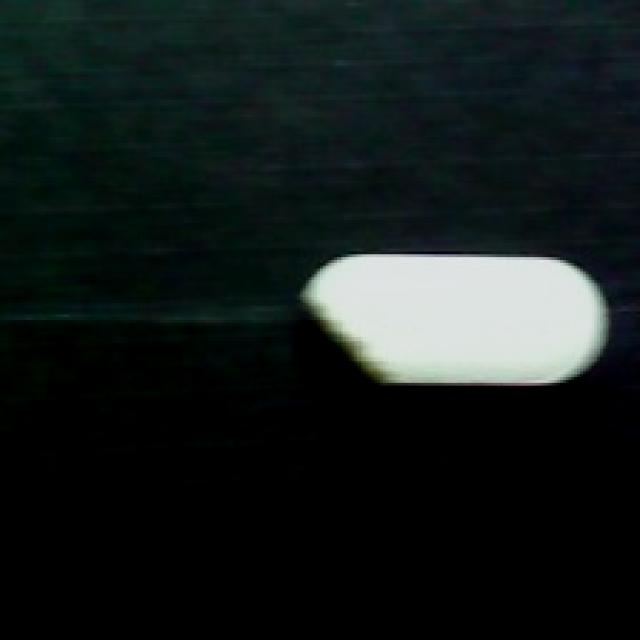defected: (291, 237, 631, 394)
